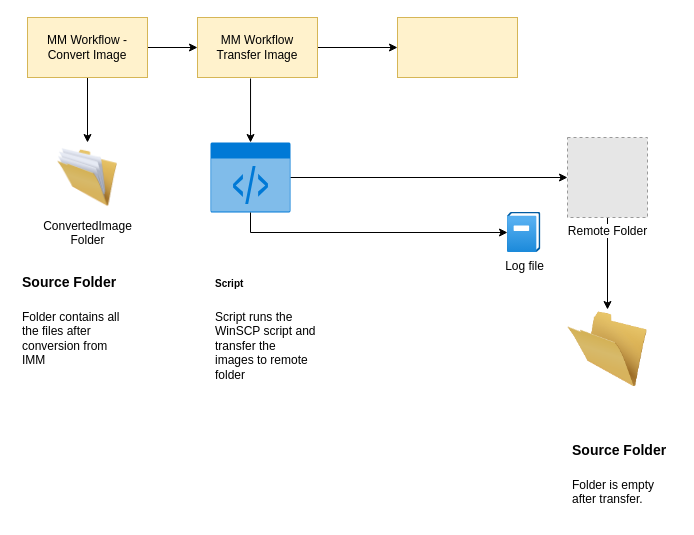
This 694x535 diagram has some shape labels left out. Grey dashed boxes stand in for pictures. Here are the shapes that lost their labels. From the top down, the centre of each, then its label:
point 457,47: Change status of the image in Media Manager/PIM
point 250,177: FTPS Script
point 607,349: ConvertedImage
